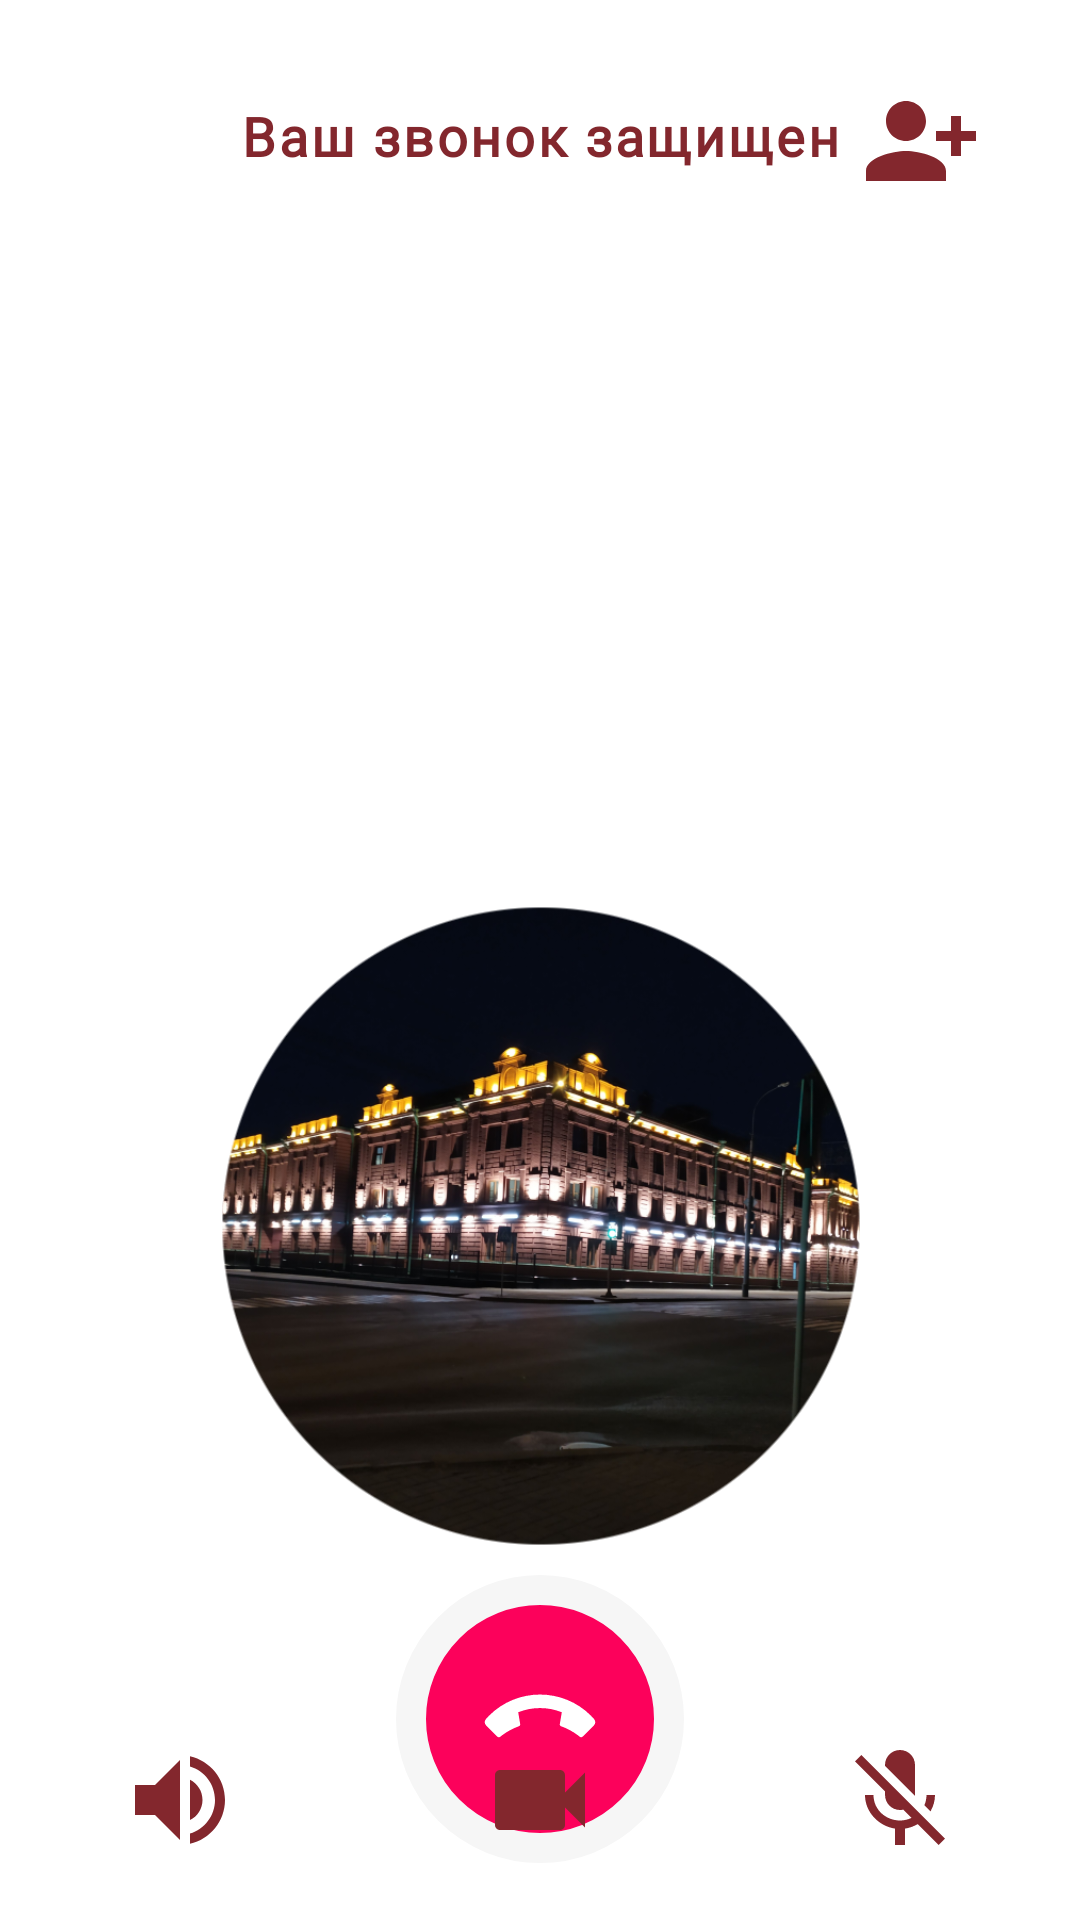

Where to tap for icons on this 1080×1920 app screen, as (x,y):
mic off: (900,1797)
person add: (921,141)
volume up: (180,1800)
